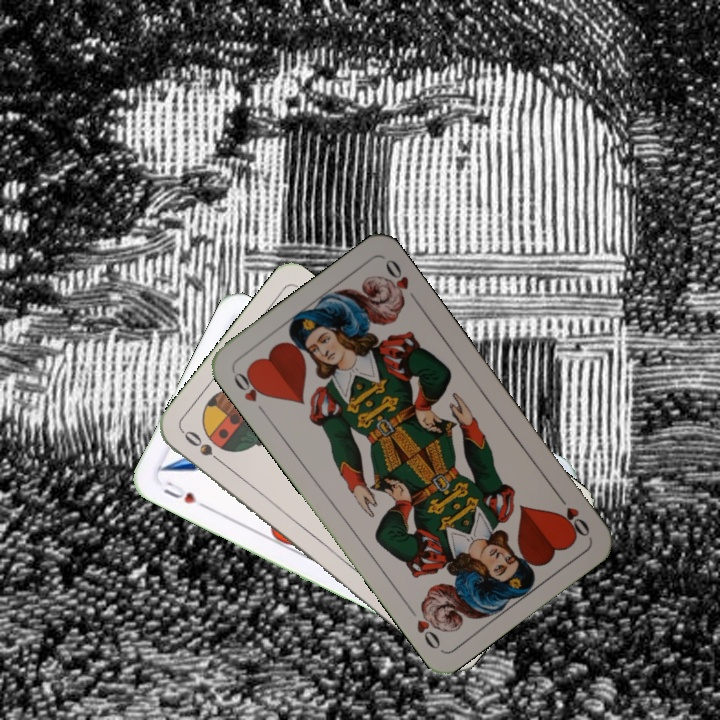HO: (229, 365, 270, 418), (552, 489, 593, 540)
HU: (159, 476, 210, 511)
SO: (179, 426, 229, 469)
